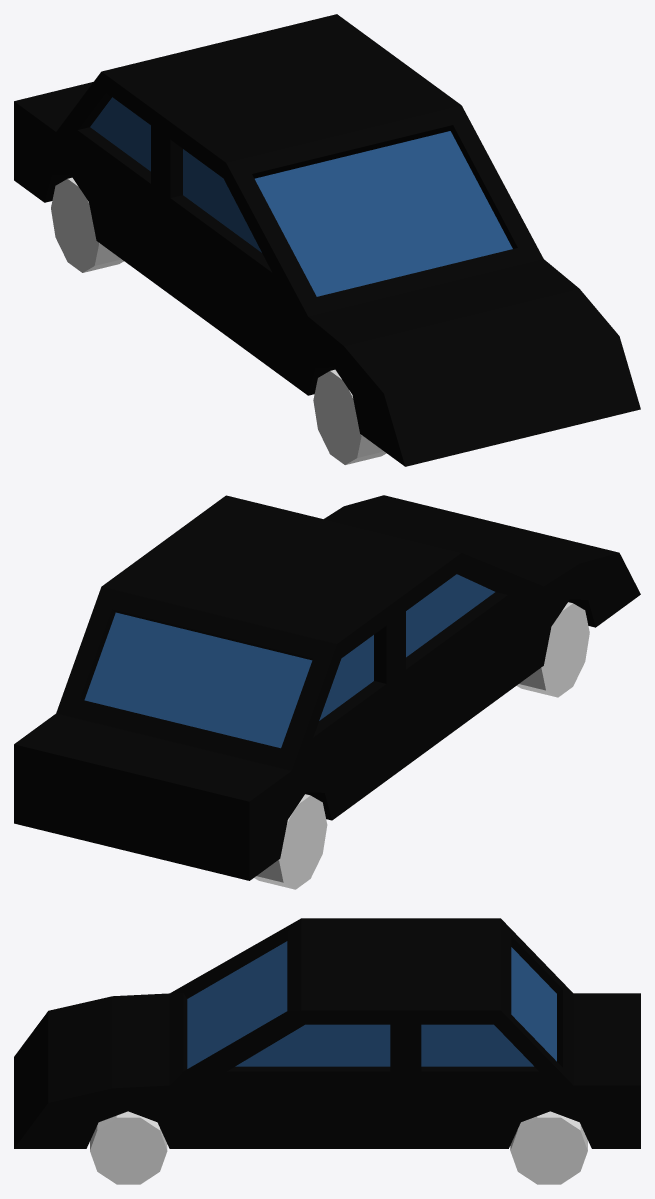
The model's file is CarSadan.fbx.
3 views of the same model, one above another, from view 1: azimuth 30°, elevation 25°; view 2: azimuth 150°, elevation 25°; view 3: azimuth 270°, elevation 25° (orthographic). The views are drawn at different scales.
Parts seen in each view (by area): view 1: SudanBody, SudanWheel; view 2: SudanBody, SudanWheel; view 3: SudanBody, SudanWheel.
Boxes of the visible parts, x1=… form: SudanBody: x1=14, y1=14, x2=640, y2=466; SudanWheel: x1=51, y1=177, x2=386, y2=464; SudanBody: x1=14, y1=495, x2=640, y2=880; SudanWheel: x1=254, y1=602, x2=589, y2=889; SudanBody: x1=14, y1=918, x2=640, y2=1148; SudanWheel: x1=90, y1=1111, x2=587, y2=1184.
Size of what is drawn, in the model's own units: 200 by 178 by 575.
